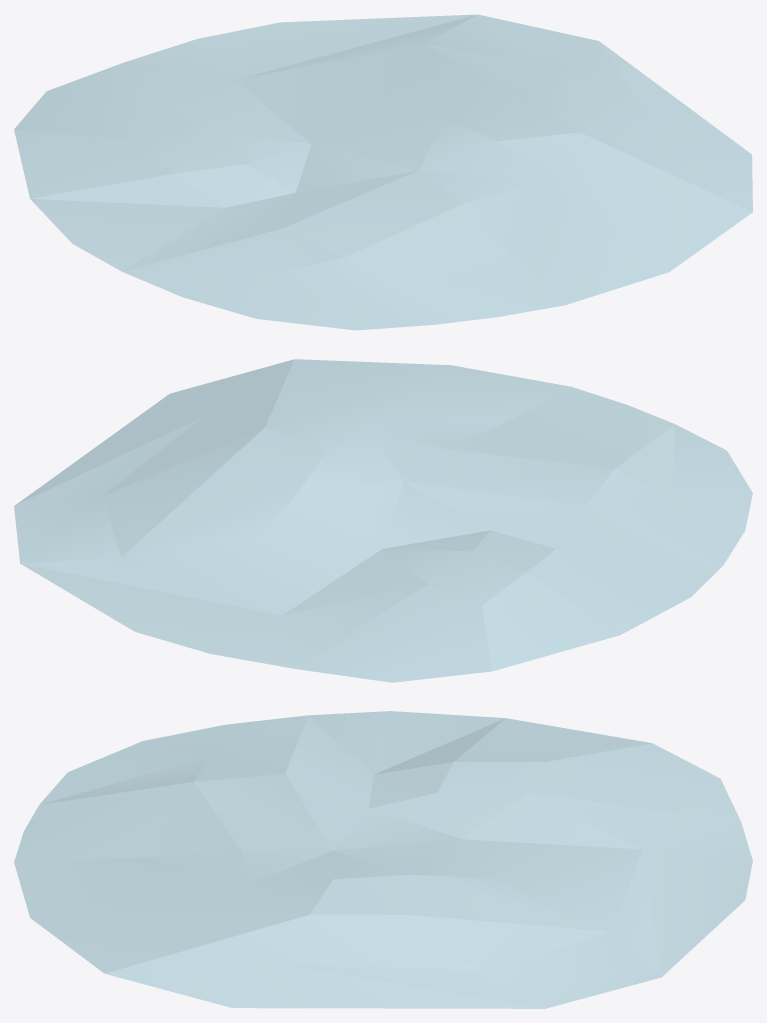
The model's file is Tileset_Nieve03.glb.
3 renders of one model, top to bottom at view 1: azimuth 30°, elevation 25°; view 2: azimuth 150°, elevation 25°; view 3: azimuth 270°, elevation 25°, orthographic.
Parts seen in each view (by area): view 1: SM_Env_DirtMound_02_Snow; view 2: SM_Env_DirtMound_02_Snow; view 3: SM_Env_DirtMound_02_Snow.
Part boxes in pixels (x1=…): SM_Env_DirtMound_02_Snow: x1=14, y1=14, x2=752, y2=330; SM_Env_DirtMound_02_Snow: x1=14, y1=359, x2=752, y2=682; SM_Env_DirtMound_02_Snow: x1=14, y1=711, x2=752, y2=1008.
Size of the model in its own units: 16.45 by 0.7012 by 17.25.
1 material, 1 textured.
